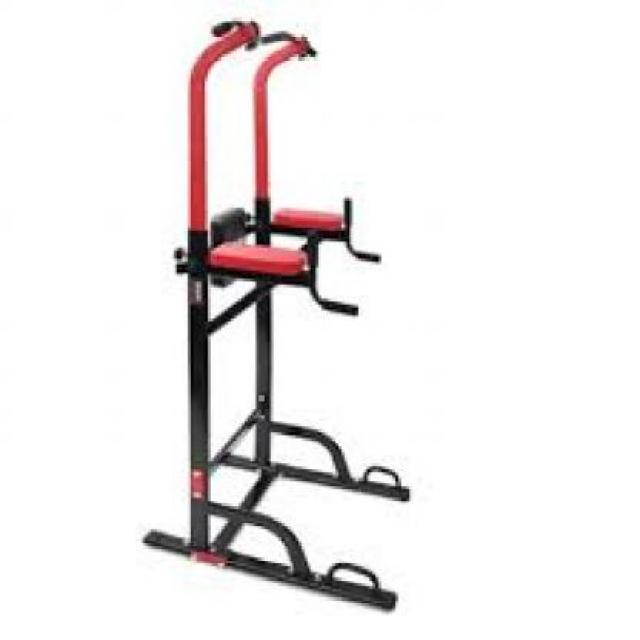chinning dipping: (144, 19, 410, 612)
